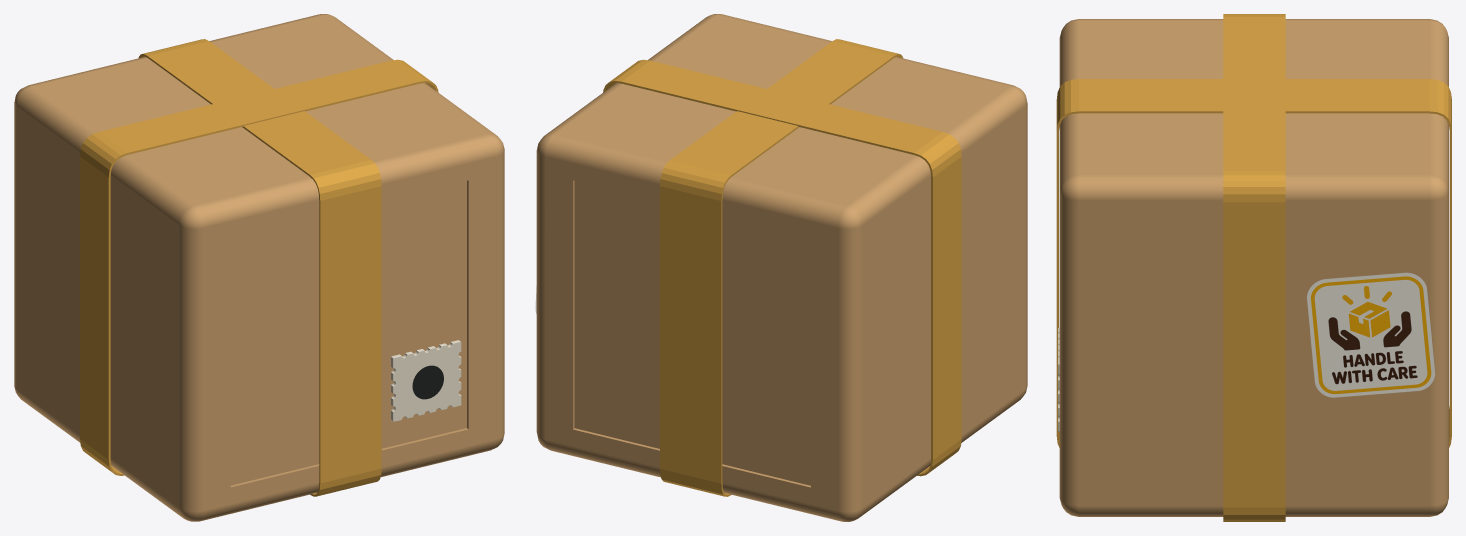
Rendered from play-parcel-small-yellow.glb.
3 renders of one model, left to right at view 1: azimuth 30°, elevation 25°; view 2: azimuth 150°, elevation 25°; view 3: azimuth 270°, elevation 25°, orthographic. The views are drawn at different scales.
Parts seen in each view (by area): view 1: Parcel_Carton, Parcel_Tape_Continuous_Front_Back, Parcel_Tape_Continuous_Left_Right, Parcel_Paper_Label, Parcel_Label_Circle; view 2: Parcel_Carton, Parcel_Tape_Continuous_Front_Back, Parcel_Tape_Continuous_Left_Right; view 3: Parcel_Carton, Parcel_Tape_Continuous_Left_Right, Parcel_Care_H3_Artwork, Parcel_Tape_Continuous_Front_Back.
Part boxes in pixels (bbox=[...]): Parcel_Carton: bbox=[14, 14, 504, 521]; Parcel_Tape_Continuous_Front_Back: bbox=[138, 39, 381, 496]; Parcel_Tape_Continuous_Left_Right: bbox=[80, 59, 438, 475]; Parcel_Paper_Label: bbox=[391, 340, 461, 421]; Parcel_Label_Circle: bbox=[412, 365, 443, 399]; Parcel_Carton: bbox=[536, 14, 1027, 521]; Parcel_Tape_Continuous_Front_Back: bbox=[660, 39, 902, 496]; Parcel_Tape_Continuous_Left_Right: bbox=[603, 59, 961, 476]; Parcel_Carton: bbox=[1059, 19, 1448, 516]; Parcel_Tape_Continuous_Left_Right: bbox=[1223, 14, 1285, 521]; Parcel_Care_H3_Artwork: bbox=[1307, 272, 1435, 397]; Parcel_Tape_Continuous_Front_Back: bbox=[1056, 79, 1451, 447].
Size of the model in its own units: 0.148 by 0.138 by 0.1423.
Materials: 12 (1 with a texture image).
